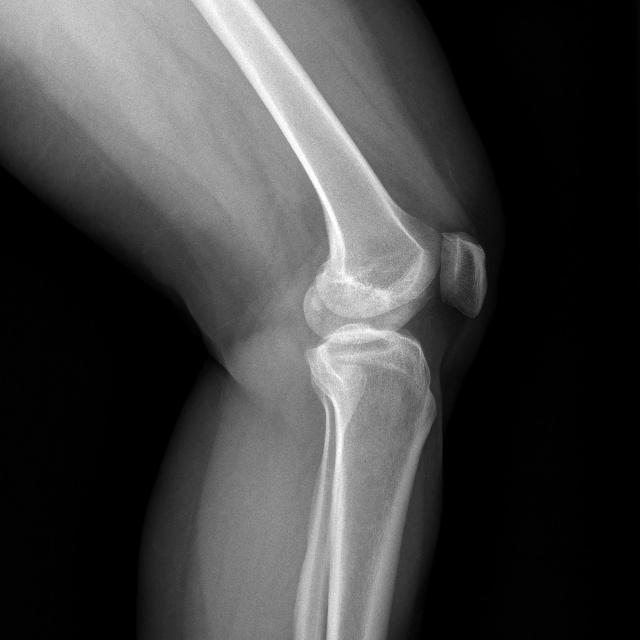Knee: (290, 227, 489, 416)
